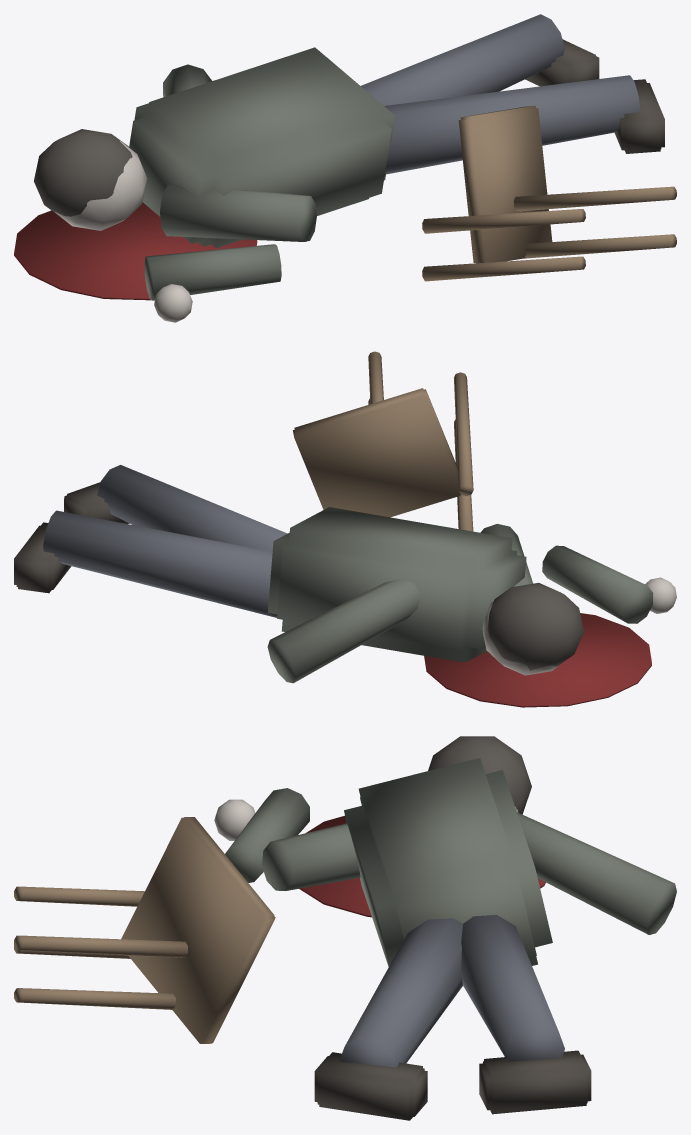
The model's file is crime_victim_body.glb.
3 renders of one model, top to bottom at view 1: azimuth 30°, elevation 25°; view 2: azimuth 150°, elevation 25°; view 3: azimuth 270°, elevation 25°, orthographic. The views are drawn at different scales.
Parts seen in each view (by area): view 1: TorsoCoat, LegL, BloodPool, OverturnedStoolSeat, LegR, ArmUpperL, HairCap, ArmLowerL, Head, ShoeL, StoolLeg_-0.12_-0.12, StoolLeg_-0.12_0.12 (+5 smaller); view 2: TorsoCoat, OverturnedStoolSeat, LegR, BloodPool, LegL, ArmR, HairCap, ArmLowerL, ShoeR, StoolLeg_-0.12_0.12, ShoeL, HandL (+4 smaller); view 3: TorsoCoat, OverturnedStoolSeat, LegL, LegR, ArmR, ShoeR, ShoeL, ArmUpperL, ArmLowerL, HairCap, StoolLeg_0.12_0.12, StoolLeg_0.12_-0.12 (+3 smaller).
Part boxes in pixels (x1,y1,x2,y2): TorsoCoat: (129,47,394,248); LegL: (384,75,640,174); BloodPool: (14,202,257,300); OverturnedStoolSeat: (458,105,552,263); LegR: (361,14,564,105); ArmUpperL: (160,184,316,241); HairCap: (34,129,132,216); ArmLowerL: (144,244,281,300); Head: (55,140,147,230); ShoeL: (614,79,664,153); StoolLeg_-0.12_-0.12: (422,256,585,281); StoolLeg_-0.12_0.12: (422,209,585,233); TorsoCoat: (267,507,526,662); OverturnedStoolSeat: (293,388,460,517); LegR: (43,510,277,617); BloodPool: (424,613,651,707); LegL: (97,465,287,551); ArmR: (267,579,420,683); HairCap: (487,582,583,670); ArmLowerL: (542,545,653,623); ShoeR: (14,522,71,593); StoolLeg_-0.12_0.12: (454,372,473,496); ShoeL: (64,482,129,523); HandL: (645,577,676,613); TorsoCoat: (344,758,552,966); OverturnedStoolSeat: (121,817,275,1043); LegL: (339,918,462,1067); LegR: (461,915,564,1061); ArmR: (517,812,676,934); ShoeR: (479,1050,591,1114); ShoeL: (314,1052,427,1120); ArmUpperL: (262,823,360,890); ArmLowerL: (225,788,309,882); HairCap: (428,736,531,814); StoolLeg_0.12_0.12: (14,935,187,957); StoolLeg_0.12_-0.12: (14,988,175,1009).
Size of the model in its own units: 1.62 by 0.4195 by 1.37.
